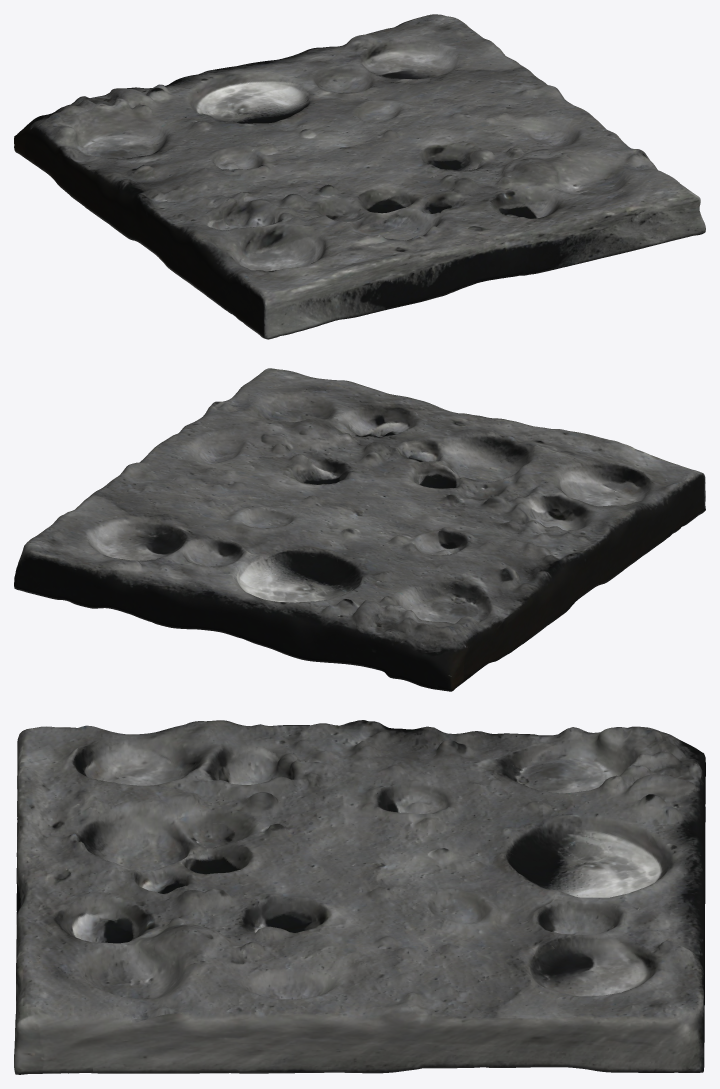
File: Ground.glb
3 views of the same model, one above another, from view 1: azimuth 30°, elevation 25°; view 2: azimuth 150°, elevation 25°; view 3: azimuth 270°, elevation 25° (orthographic). The views are drawn at different scales.
Size of the model in its own units: 2 by 0.2363 by 1.99.
1 material, 1 textured.
